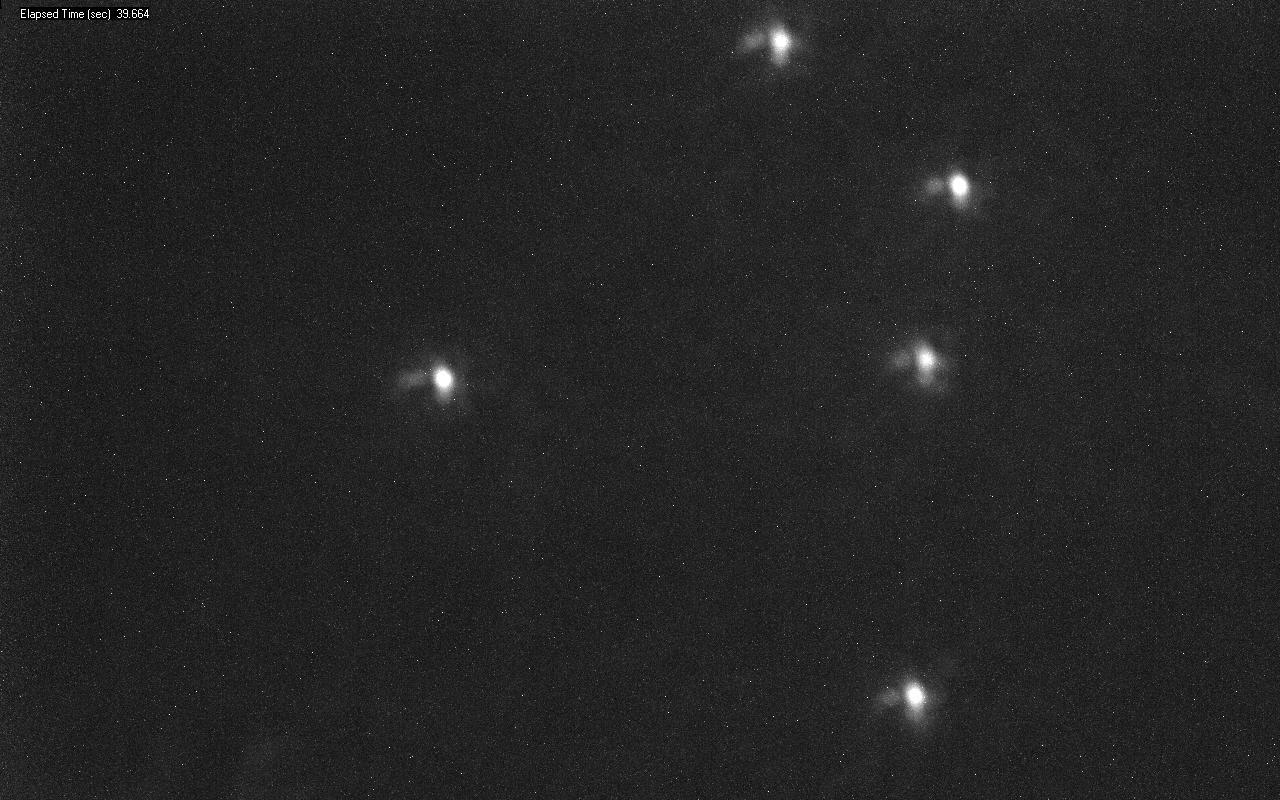Bead: (410, 364, 455, 399), (911, 344, 941, 387), (945, 173, 971, 206), (901, 681, 927, 712), (769, 28, 793, 59)
